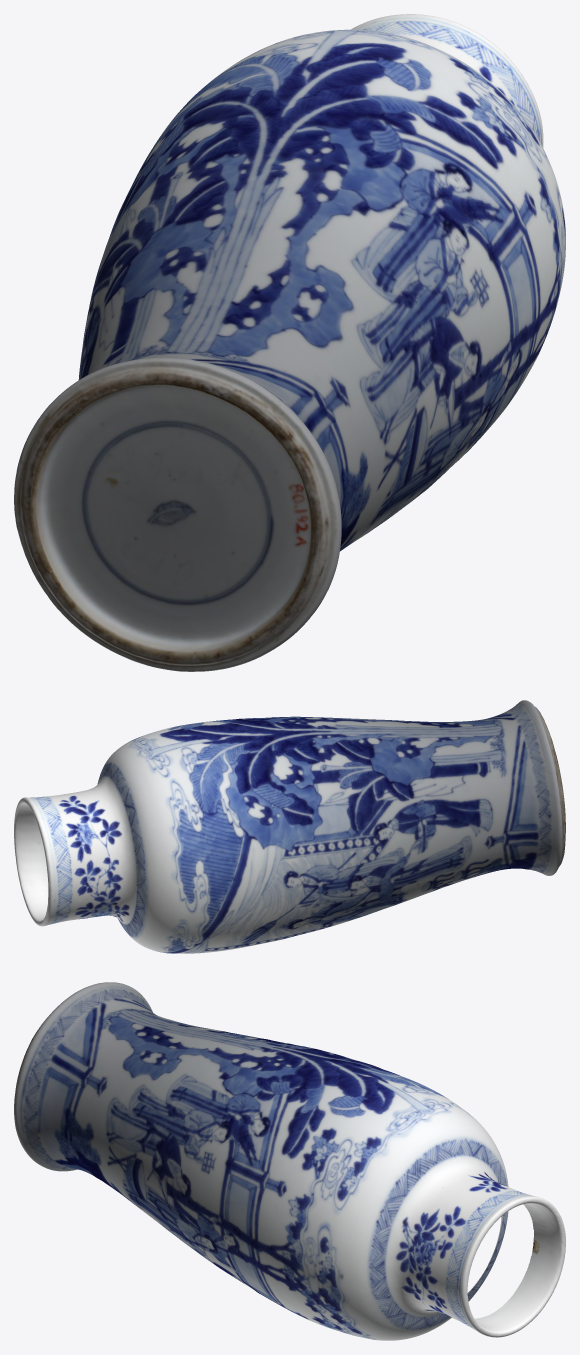
File: preview.glb
3 renders of one model, top to bottom at view 1: azimuth 30°, elevation 25°; view 2: azimuth 150°, elevation 25°; view 3: azimuth 270°, elevation 25°, orthographic. The views are drawn at different scales.
Bounding box in the file's own units: 0.3571 × 0.1723 × 0.3641.
1 material, 1 textured.
